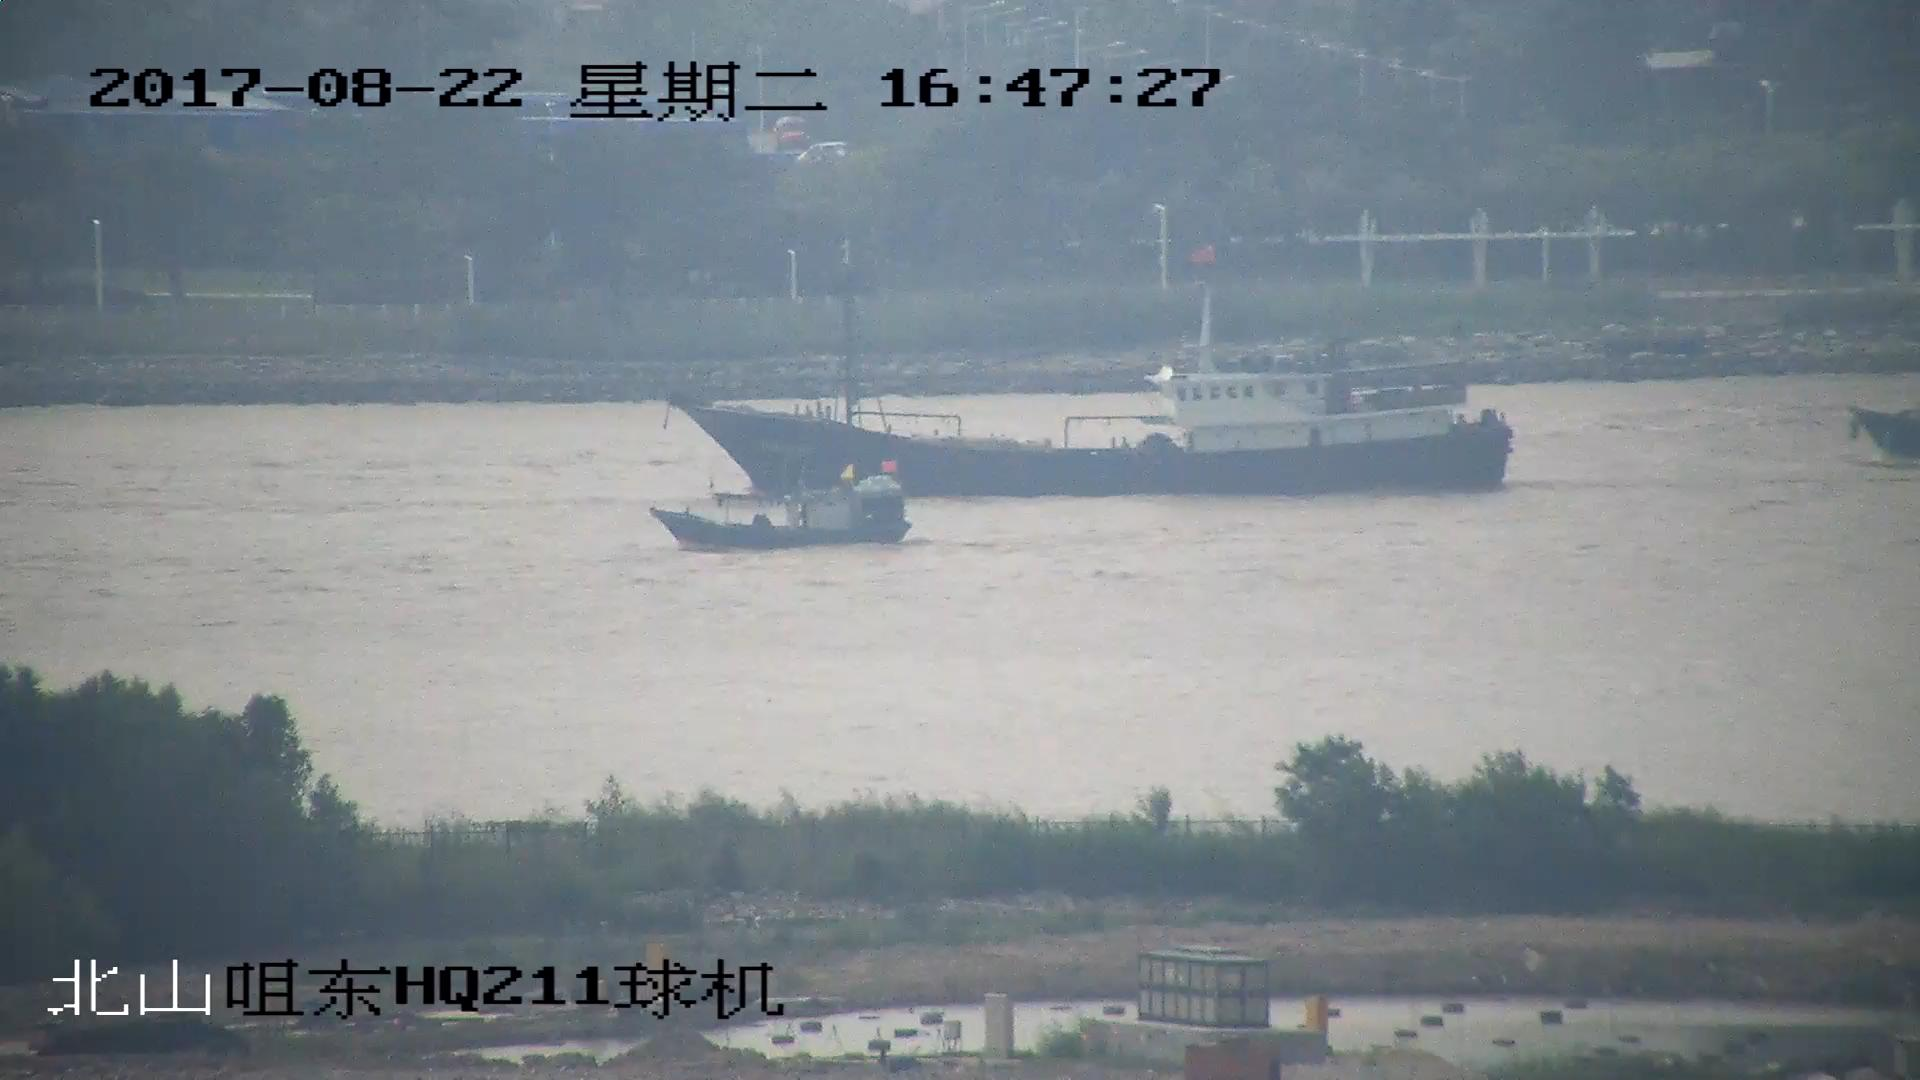fishing boat: (661, 229, 1508, 495), (653, 459, 910, 550)
